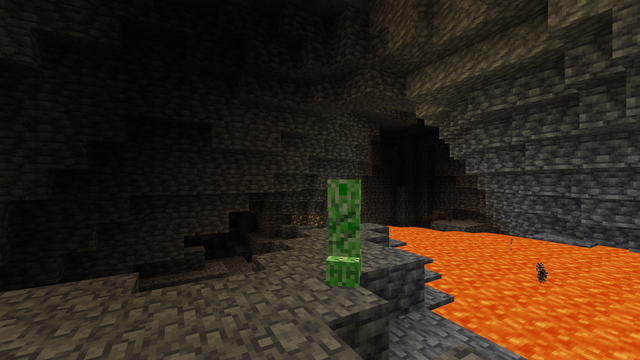araignees: (426, 209, 450, 222)
creepers: (320, 174, 370, 286)
